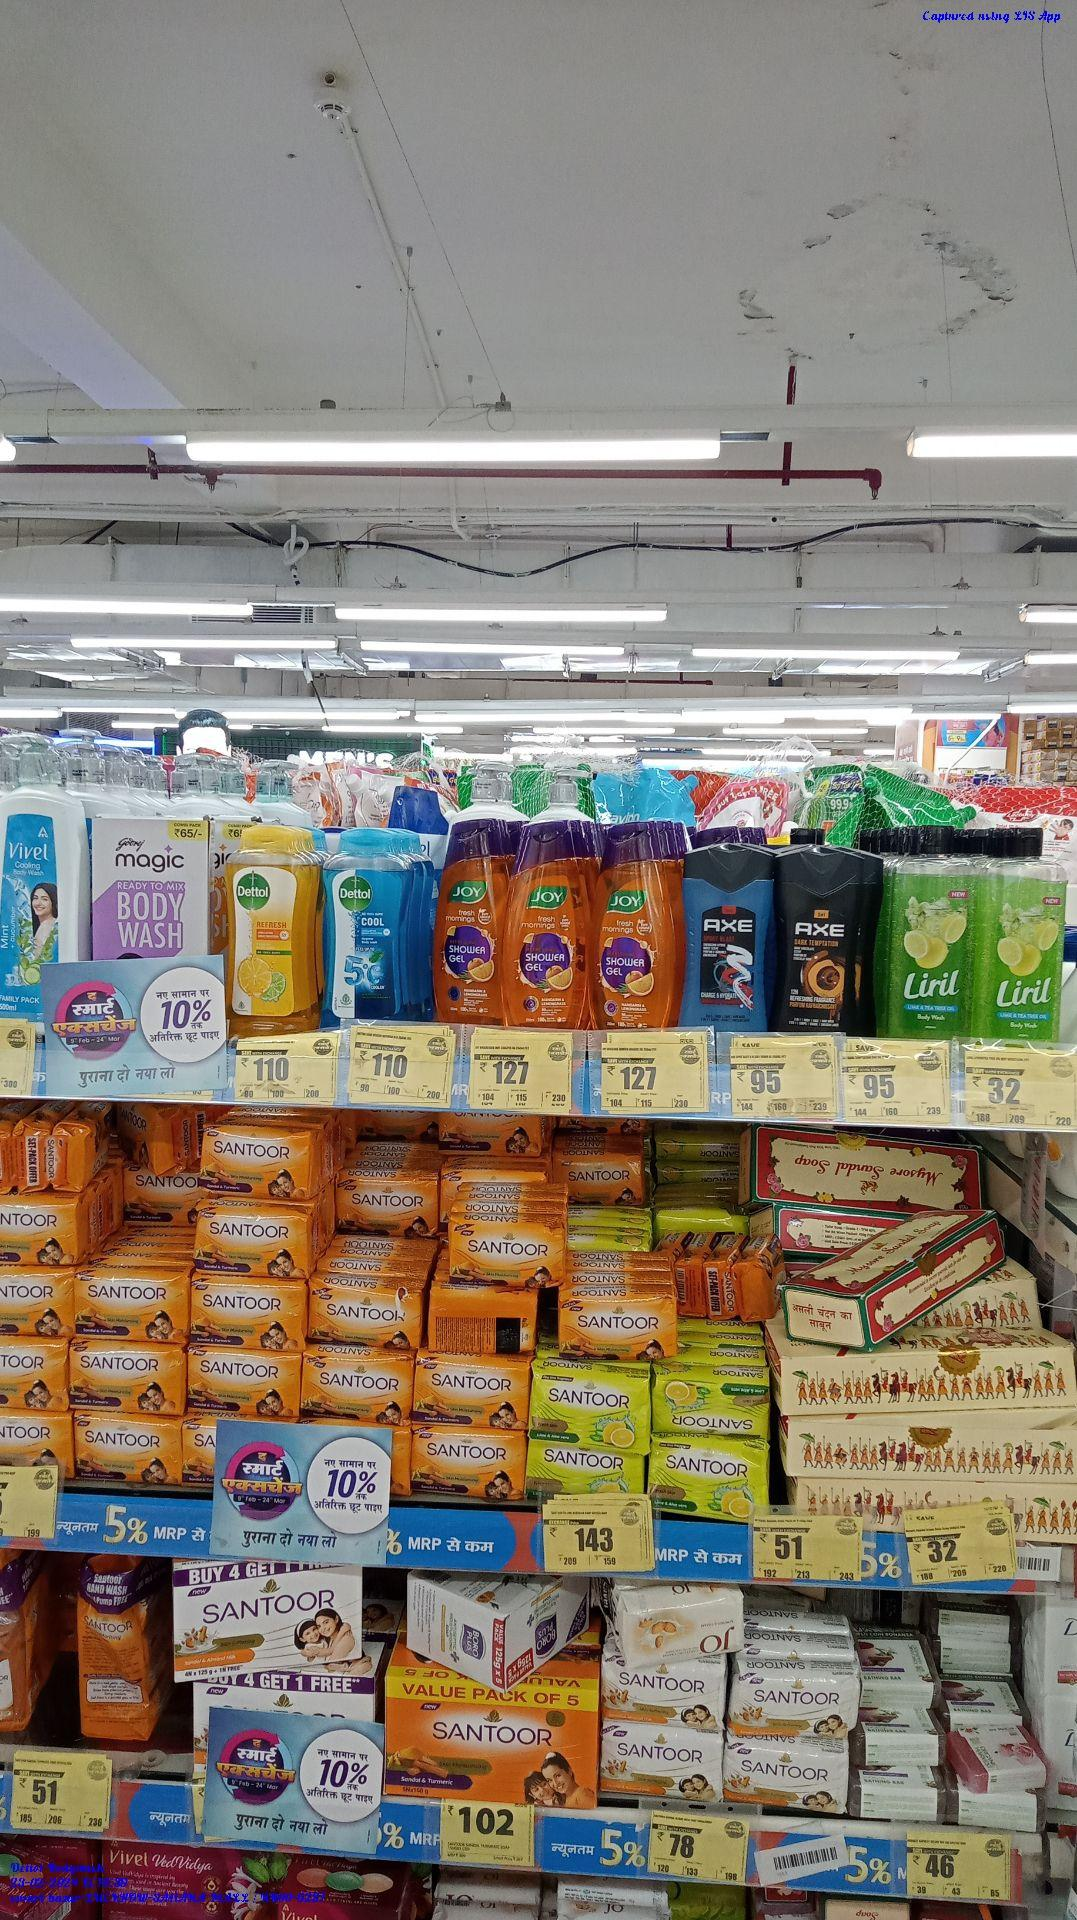Dettol_Bodywash_Cool: (326, 835, 411, 1022)
Dettol_Bodywash_Refresh: (221, 828, 314, 1034)
Joy_Shower_Gel_Mandarin_and_Lemongrass_250ML: (506, 822, 588, 1023), (598, 829, 676, 1030), (436, 822, 505, 1023)
Liril_Lime_and_Tea_Tree_Oil_Body_Wash_250ML: (885, 829, 973, 1040), (982, 828, 1065, 1043)
